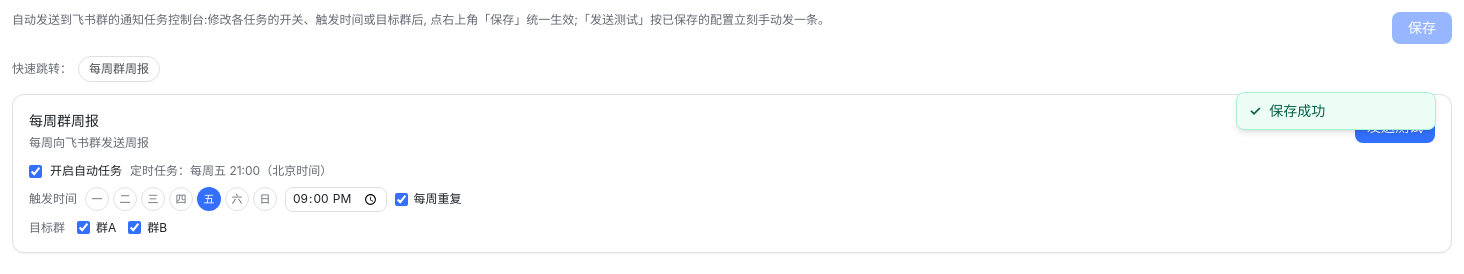
AdminFeishuTasksPage(飞书群任务) › 保存失败时提示失败,草稿保留可重试
This screenshot has width=1464, height=274.
expect the button "每周群周报" is shown: met, box x1=78 y1=56 x2=160 y2=82
Click the checkbox labelled "群B".
click(135, 228)  # box x1=128 y1=221 x2=141 y2=234
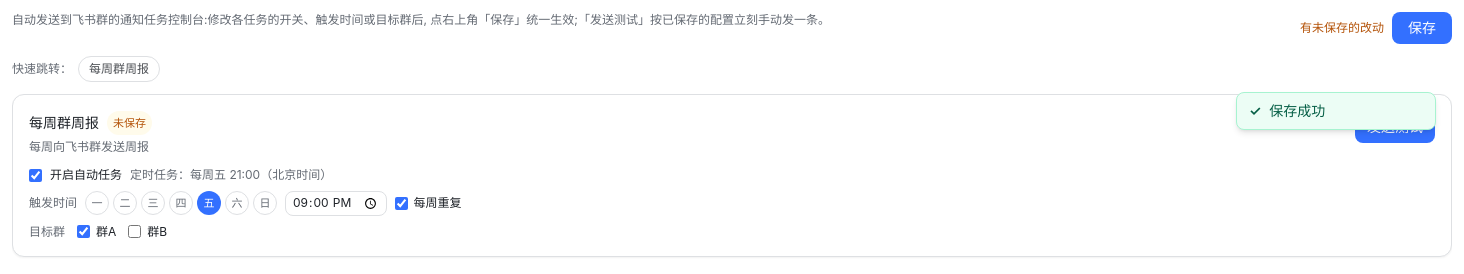
Click the button "保存".
click(1422, 28)  # box x1=1392 y1=12 x2=1452 y2=44
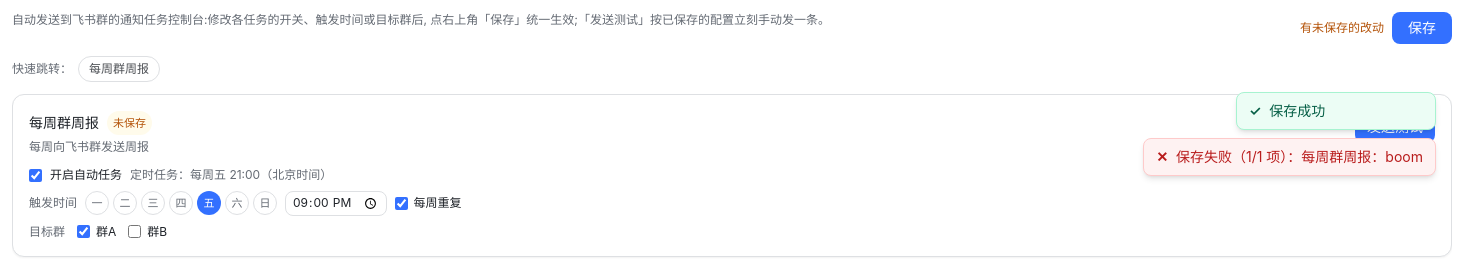
expect the text "未保存" is shown: met, box x1=107 y1=111 x2=152 y2=135
expect the button "保存" is enabled: met, box x1=1392 y1=12 x2=1452 y2=44
expect the text "保存失败（1/1 项）：每周群周报：boom" is shown: met, box x1=1176 y1=147 x2=1423 y2=167
